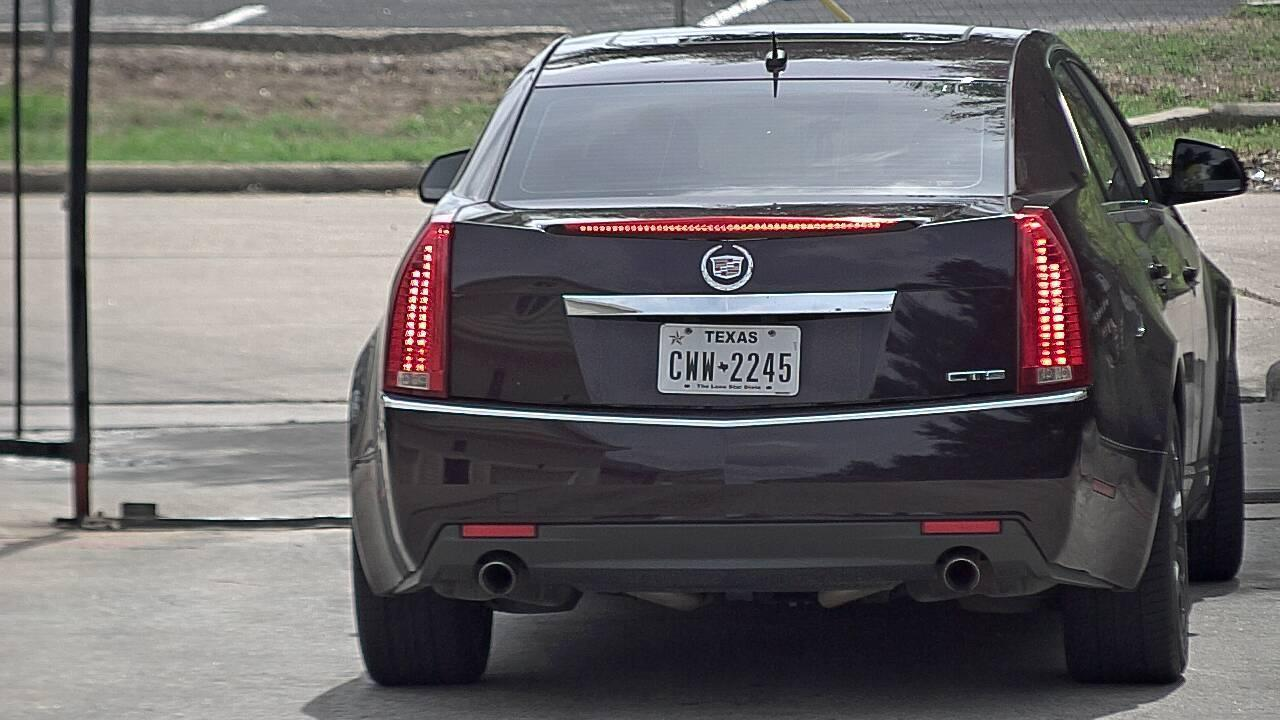placa de veiculo: (635, 312, 809, 405)
